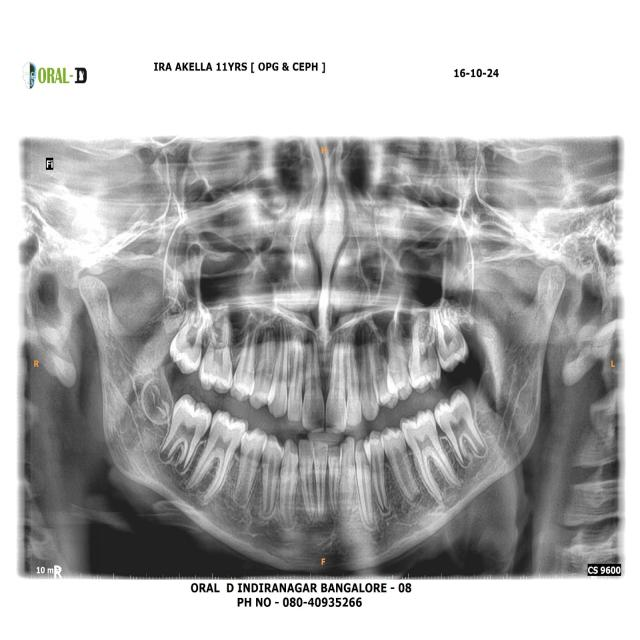Premolars: (380, 426, 422, 514), (363, 427, 395, 515)
